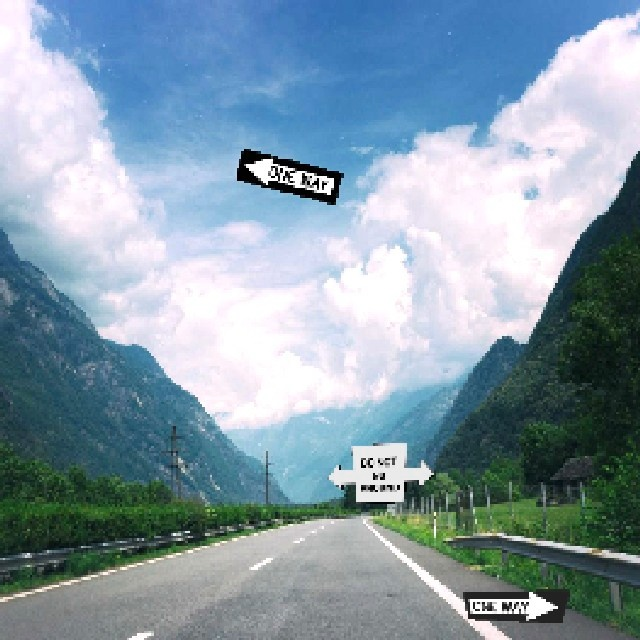DO_NOT_GO_AROUND: (325, 440, 433, 502)
ONE_WAY_ left: (233, 146, 341, 203)
ONE_WAY_ right: (461, 587, 569, 622)
